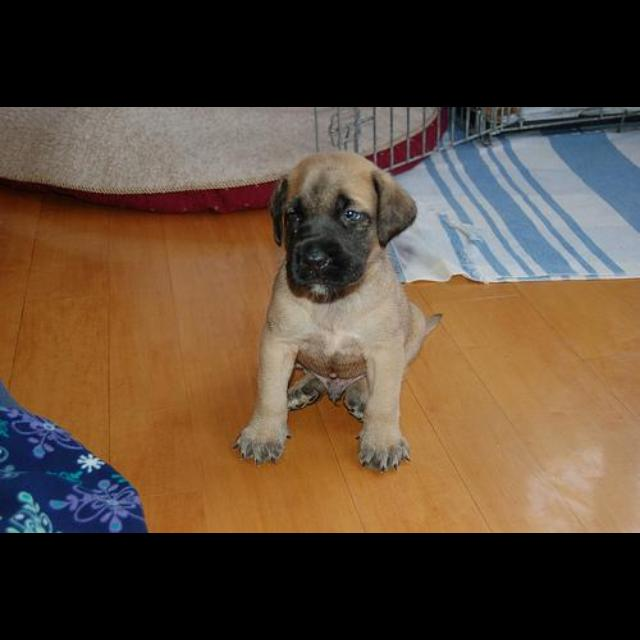bullmastiff: (234, 151, 443, 474)
